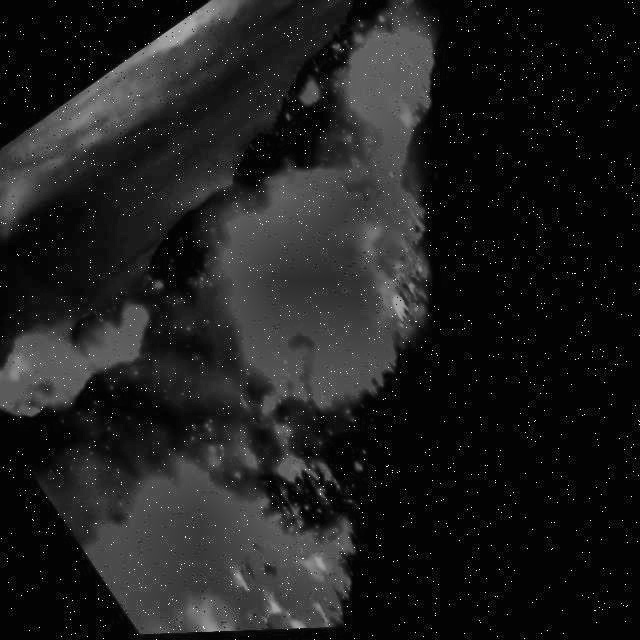Fire: (118, 99, 446, 408), (210, 0, 505, 264), (0, 296, 254, 595), (161, 468, 405, 635), (214, 326, 398, 493), (358, 270, 454, 366)
